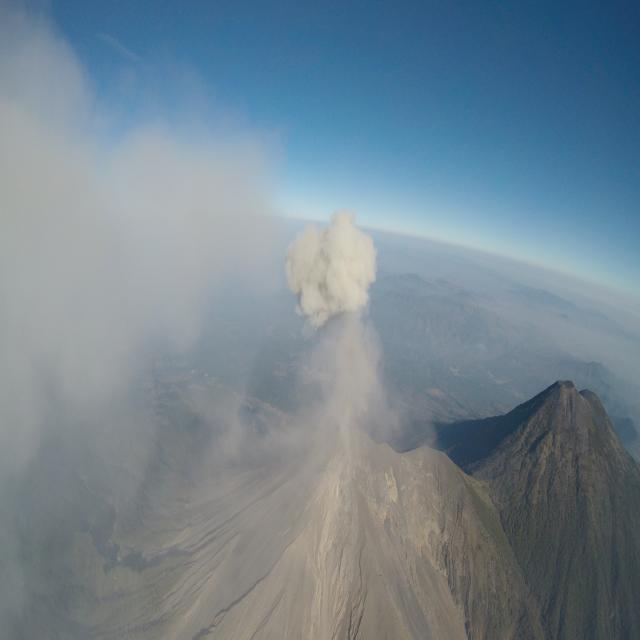Plume: (0, 2, 251, 516), (284, 202, 382, 328)
